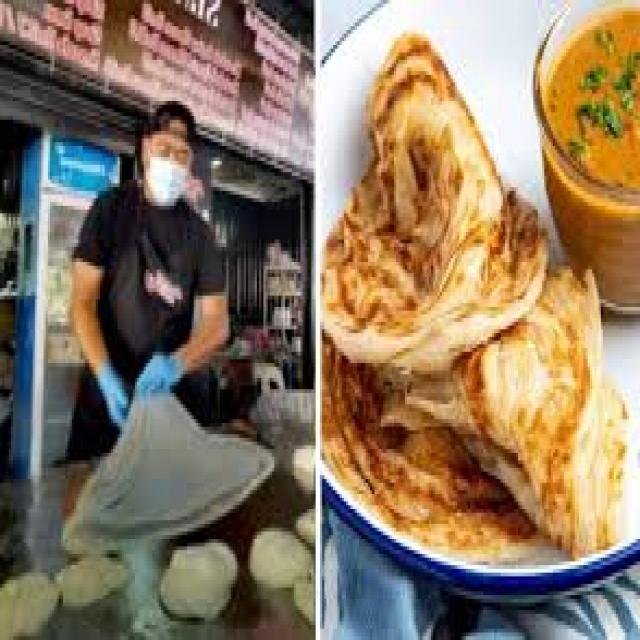Paratha: (297, 21, 632, 393), (335, 248, 606, 581)
